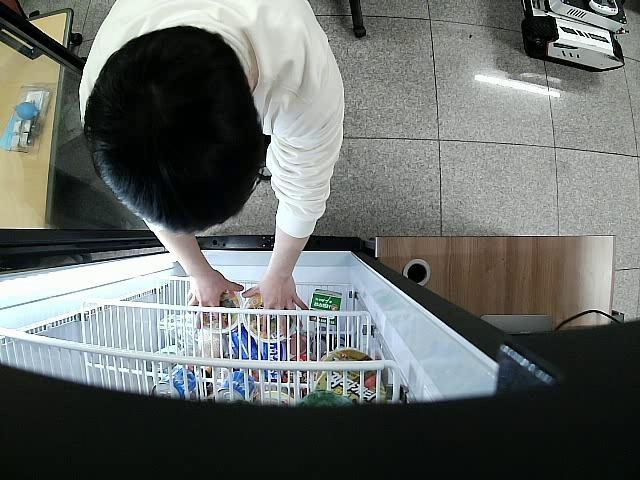09_yukGaeJang: (244, 290, 296, 344), (194, 292, 242, 334)
